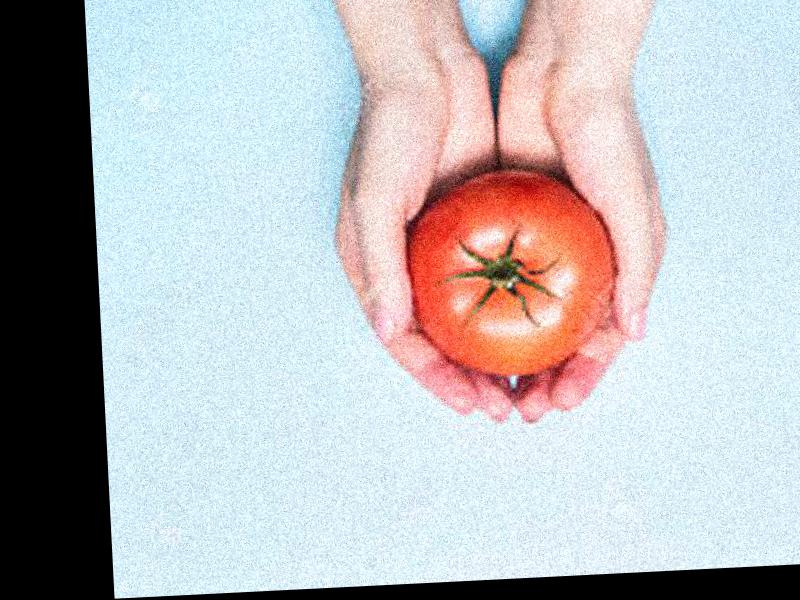Tomato: (398, 166, 619, 380)
